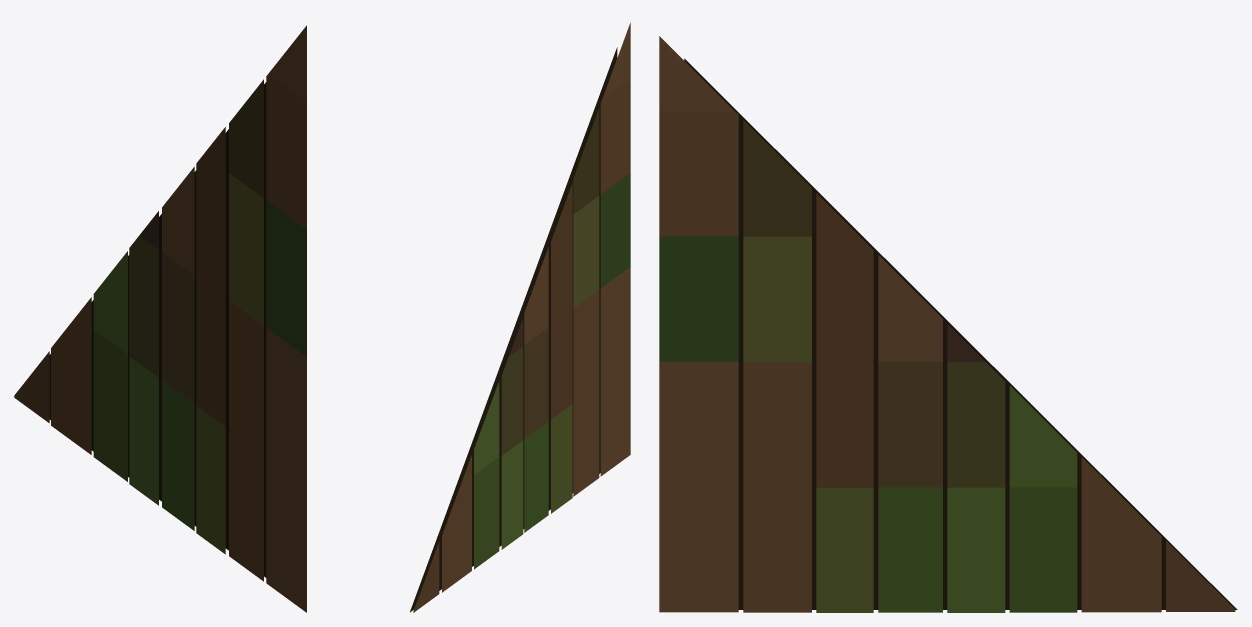
File: wall-mossy-gable-l-steep.glb
The picture shows the model from 3 angles, left to right: view 1: azimuth 30°, elevation 25°; view 2: azimuth 150°, elevation 25°; view 3: azimuth 270°, elevation 25°; orthographic projection. The views are drawn at different scales.
Parts seen in each view (by area): view 1: wall-mossy-gable-l-steep; view 2: wall-mossy-gable-l-steep; view 3: wall-mossy-gable-l-steep.
Boxes of the visible parts, bbox=[...] form: wall-mossy-gable-l-steep: bbox=[14, 25, 306, 612]; wall-mossy-gable-l-steep: bbox=[410, 22, 630, 612]; wall-mossy-gable-l-steep: bbox=[659, 36, 1237, 612].
Bounding box in the file's own units: 0.0985 × 1.15 × 1.05.
